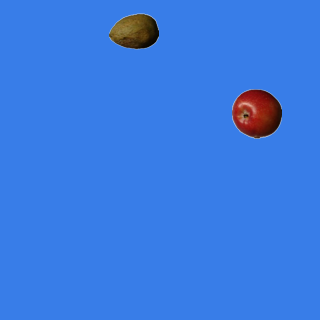Apple Braeburn: (231, 88, 281, 138)
Papaya: (108, 6, 158, 56)
